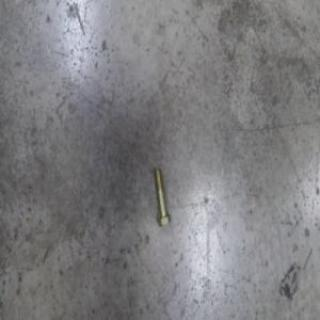Bolttrack_idkeyframe: (153, 166, 171, 227)
